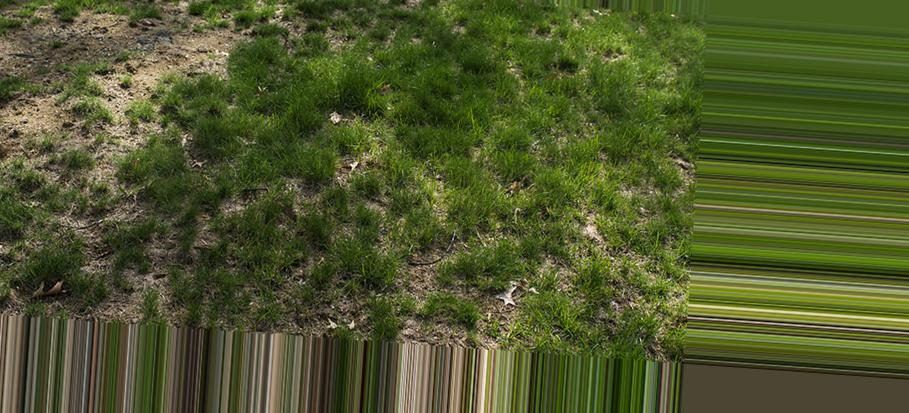patch: (13, 20, 135, 86), (28, 99, 101, 141), (154, 20, 225, 48), (116, 101, 149, 136), (404, 254, 428, 275)
